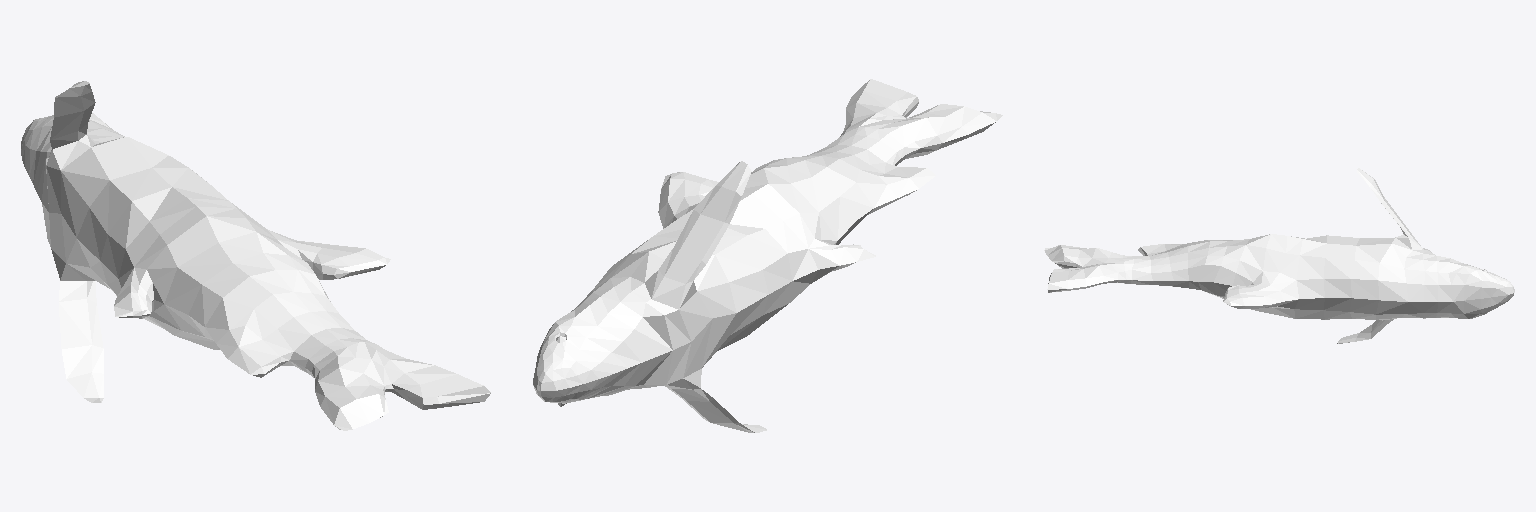
The robot description file, URDF, robot "fish":
<?xml version="1.0"?>
<robot name="fish">
  <material name="material.027">
    <texture filename="visual/image0.png" />
    <color rgba="1 1 1 1" />
  </material>

  <link name="base_link">
    <inertial>
      <origin xyz="0 0 0" rpy="0 0 0" />
      <mass value="0.5" />
      <inertia ixx="0.001" ixy="0" ixz="0" iyy="0.001" iyz="0" izz="0.001" />
    </inertial>

    <visual>
      <origin xyz="0 0 0" rpy="0 -1.57079632679 3.14159265359" />
      <geometry>
        <mesh filename="visual/model_normalized_0.obj" scale="0.17 0.17 0.17" />
      </geometry>
      <material name="material.027" />
    </visual>

    <collision>
      <origin xyz="0 0 0" rpy="0 -1.57079632679 3.14159265359" />
      <geometry>
        <mesh filename="collision/model_normalized_collision_22.obj" scale="0.17 0.17 0.17" />
      </geometry>
    </collision>
    <collision>
      <origin xyz="0 0 0" rpy="0 -1.57079632679 3.14159265359" />
      <geometry>
        <mesh filename="collision/model_normalized_collision_23.obj" scale="0.17 0.17 0.17" />
      </geometry>
    </collision>
    <collision>
      <origin xyz="0 0 0" rpy="0 -1.57079632679 3.14159265359" />
      <geometry>
        <mesh filename="collision/model_normalized_collision_21.obj" scale="0.17 0.17 0.17" />
      </geometry>
    </collision>
    <collision>
      <origin xyz="0 0 0" rpy="0 -1.57079632679 3.14159265359" />
      <geometry>
        <mesh filename="collision/model_normalized_collision_20.obj" scale="0.17 0.17 0.17" />
      </geometry>
    </collision>
    <collision>
      <origin xyz="0 0 0" rpy="0 -1.57079632679 3.14159265359" />
      <geometry>
        <mesh filename="collision/model_normalized_collision_24.obj" scale="0.17 0.17 0.17" />
      </geometry>
    </collision>
    <collision>
      <origin xyz="0 0 0" rpy="0 -1.57079632679 3.14159265359" />
      <geometry>
        <mesh filename="collision/model_normalized_collision_30.obj" scale="0.17 0.17 0.17" />
      </geometry>
    </collision>
    <collision>
      <origin xyz="0 0 0" rpy="0 -1.57079632679 3.14159265359" />
      <geometry>
        <mesh filename="collision/model_normalized_collision_18.obj" scale="0.17 0.17 0.17" />
      </geometry>
    </collision>
    <collision>
      <origin xyz="0 0 0" rpy="0 -1.57079632679 3.14159265359" />
      <geometry>
        <mesh filename="collision/model_normalized_collision_19.obj" scale="0.17 0.17 0.17" />
      </geometry>
    </collision>
    <collision>
      <origin xyz="0 0 0" rpy="0 -1.57079632679 3.14159265359" />
      <geometry>
        <mesh filename="collision/model_normalized_collision_31.obj" scale="0.17 0.17 0.17" />
      </geometry>
    </collision>
    <collision>
      <origin xyz="0 0 0" rpy="0 -1.57079632679 3.14159265359" />
      <geometry>
        <mesh filename="collision/model_normalized_collision_25.obj" scale="0.17 0.17 0.17" />
      </geometry>
    </collision>
    <collision>
      <origin xyz="0 0 0" rpy="0 -1.57079632679 3.14159265359" />
      <geometry>
        <mesh filename="collision/model_normalized_collision_27.obj" scale="0.17 0.17 0.17" />
      </geometry>
    </collision>
    <collision>
      <origin xyz="0 0 0" rpy="0 -1.57079632679 3.14159265359" />
      <geometry>
        <mesh filename="collision/model_normalized_collision_26.obj" scale="0.17 0.17 0.17" />
      </geometry>
    </collision>
    <collision>
      <origin xyz="0 0 0" rpy="0 -1.57079632679 3.14159265359" />
      <geometry>
        <mesh filename="collision/model_normalized_collision_9.obj" scale="0.17 0.17 0.17" />
      </geometry>
    </collision>
    <collision>
      <origin xyz="0 0 0" rpy="0 -1.57079632679 3.14159265359" />
      <geometry>
        <mesh filename="collision/model_normalized_collision_8.obj" scale="0.17 0.17 0.17" />
      </geometry>
    </collision>
    <collision>
      <origin xyz="0 0 0" rpy="0 -1.57079632679 3.14159265359" />
      <geometry>
        <mesh filename="collision/model_normalized_collision_6.obj" scale="0.17 0.17 0.17" />
      </geometry>
    </collision>
    <collision>
      <origin xyz="0 0 0" rpy="0 -1.57079632679 3.14159265359" />
      <geometry>
        <mesh filename="collision/model_normalized_collision_7.obj" scale="0.17 0.17 0.17" />
      </geometry>
    </collision>
    <collision>
      <origin xyz="0 0 0" rpy="0 -1.57079632679 3.14159265359" />
      <geometry>
        <mesh filename="collision/model_normalized_collision_5.obj" scale="0.17 0.17 0.17" />
      </geometry>
    </collision>
    <collision>
      <origin xyz="0 0 0" rpy="0 -1.57079632679 3.14159265359" />
      <geometry>
        <mesh filename="collision/model_normalized_collision_4.obj" scale="0.17 0.17 0.17" />
      </geometry>
    </collision>
    <collision>
      <origin xyz="0 0 0" rpy="0 -1.57079632679 3.14159265359" />
      <geometry>
        <mesh filename="collision/model_normalized_collision_0.obj" scale="0.17 0.17 0.17" />
      </geometry>
    </collision>
    <collision>
      <origin xyz="0 0 0" rpy="0 -1.57079632679 3.14159265359" />
      <geometry>
        <mesh filename="collision/model_normalized_collision_1.obj" scale="0.17 0.17 0.17" />
      </geometry>
    </collision>
    <collision>
      <origin xyz="0 0 0" rpy="0 -1.57079632679 3.14159265359" />
      <geometry>
        <mesh filename="collision/model_normalized_collision_3.obj" scale="0.17 0.17 0.17" />
      </geometry>
    </collision>
    <collision>
      <origin xyz="0 0 0" rpy="0 -1.57079632679 3.14159265359" />
      <geometry>
        <mesh filename="collision/model_normalized_collision_2.obj" scale="0.17 0.17 0.17" />
      </geometry>
    </collision>
    <collision>
      <origin xyz="0 0 0" rpy="0 -1.57079632679 3.14159265359" />
      <geometry>
        <mesh filename="collision/model_normalized_collision_17.obj" scale="0.17 0.17 0.17" />
      </geometry>
    </collision>
    <collision>
      <origin xyz="0 0 0" rpy="0 -1.57079632679 3.14159265359" />
      <geometry>
        <mesh filename="collision/model_normalized_collision_16.obj" scale="0.17 0.17 0.17" />
      </geometry>
    </collision>
    <collision>
      <origin xyz="0 0 0" rpy="0 -1.57079632679 3.14159265359" />
      <geometry>
        <mesh filename="collision/model_normalized_collision_28.obj" scale="0.17 0.17 0.17" />
      </geometry>
    </collision>
    <collision>
      <origin xyz="0 0 0" rpy="0 -1.57079632679 3.14159265359" />
      <geometry>
        <mesh filename="collision/model_normalized_collision_14.obj" scale="0.17 0.17 0.17" />
      </geometry>
    </collision>
    <collision>
      <origin xyz="0 0 0" rpy="0 -1.57079632679 3.14159265359" />
      <geometry>
        <mesh filename="collision/model_normalized_collision_15.obj" scale="0.17 0.17 0.17" />
      </geometry>
    </collision>
    <collision>
      <origin xyz="0 0 0" rpy="0 -1.57079632679 3.14159265359" />
      <geometry>
        <mesh filename="collision/model_normalized_collision_29.obj" scale="0.17 0.17 0.17" />
      </geometry>
    </collision>
    <collision>
      <origin xyz="0 0 0" rpy="0 -1.57079632679 3.14159265359" />
      <geometry>
        <mesh filename="collision/model_normalized_collision_11.obj" scale="0.17 0.17 0.17" />
      </geometry>
    </collision>
    <collision>
      <origin xyz="0 0 0" rpy="0 -1.57079632679 3.14159265359" />
      <geometry>
        <mesh filename="collision/model_normalized_collision_10.obj" scale="0.17 0.17 0.17" />
      </geometry>
    </collision>
    <collision>
      <origin xyz="0 0 0" rpy="0 -1.57079632679 3.14159265359" />
      <geometry>
        <mesh filename="collision/model_normalized_collision_12.obj" scale="0.17 0.17 0.17" />
      </geometry>
    </collision>
    <collision>
      <origin xyz="0 0 0" rpy="0 -1.57079632679 3.14159265359" />
      <geometry>
        <mesh filename="collision/model_normalized_collision_13.obj" scale="0.17 0.17 0.17" />
      </geometry>
    </collision>
  </link>
</robot>

--- What the picture shows (computed from the rendered views, not written in the file) ---
Views: 3 orthographic renders of the robot side by side, from view 1: azimuth 30°, elevation 25°; view 2: azimuth 150°, elevation 25°; view 3: azimuth 270°, elevation 25°.
Robot: fish — 1 links, 0 joints (none); root link base_link; default pose: every joint at zero.
Links seen in each view (by area): view 1: base_link; view 2: base_link; view 3: base_link.
Boxes of the visible links, x1,y1,x2,y2 form: base_link: [21, 81, 490, 430]; base_link: [533, 79, 1002, 432]; base_link: [1044, 168, 1514, 343].
Size in the robot's own frame: 0.0603 by 0.17 by 0.0701 metres.
Meshes: 1 distinct files referenced, 1 mesh visuals loaded (1 OBJ).